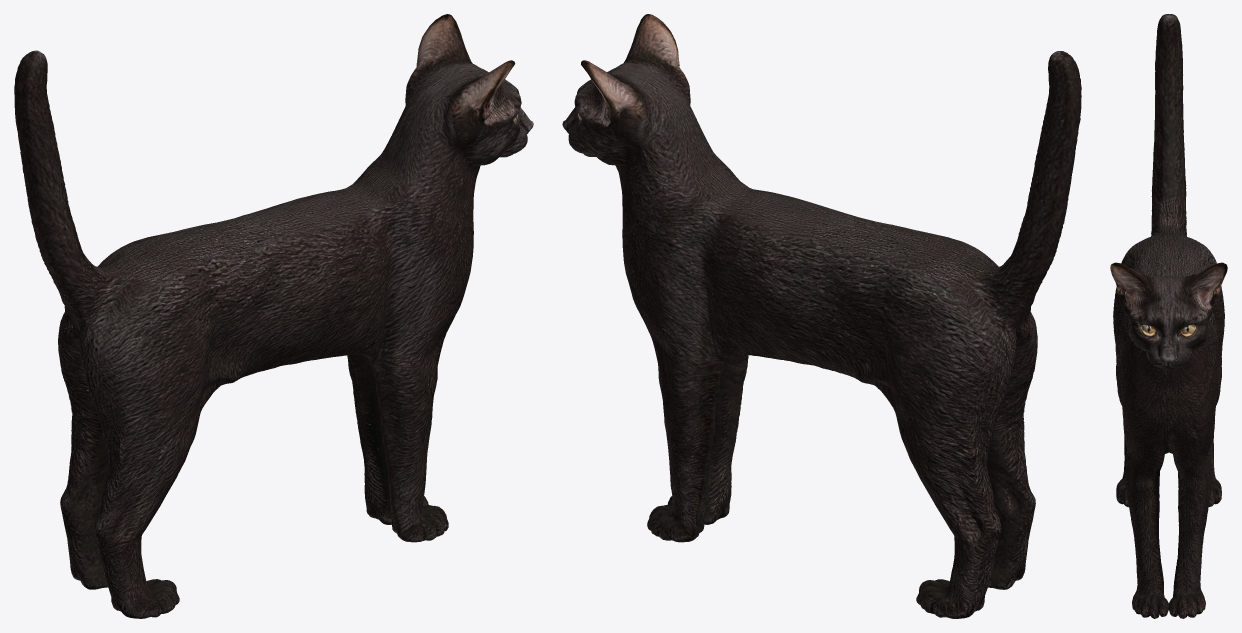
The model's file is HODGECAT.glb.
The picture shows the model from 3 angles, left to right: view 1: azimuth 30°, elevation 25°; view 2: azimuth 150°, elevation 25°; view 3: azimuth 270°, elevation 25°; orthographic projection. The views are drawn at different scales.
Visible parts, largest first — view 1: tripo_node_ce3a1dbc-93c3-4023-9754-3fca017a0be0; view 2: tripo_node_ce3a1dbc-93c3-4023-9754-3fca017a0be0; view 3: tripo_node_ce3a1dbc-93c3-4023-9754-3fca017a0be0.
Part boxes in pixels (box(x1,y1,x2,y2)): tripo_node_ce3a1dbc-93c3-4023-9754-3fca017a0be0: box(14, 14, 533, 618); tripo_node_ce3a1dbc-93c3-4023-9754-3fca017a0be0: box(562, 14, 1081, 618); tripo_node_ce3a1dbc-93c3-4023-9754-3fca017a0be0: box(1110, 14, 1227, 618).
Size of the model in its own units: 0.9535 by 0.9997 by 0.2355.
Materials: 1 (1 with a texture image).
